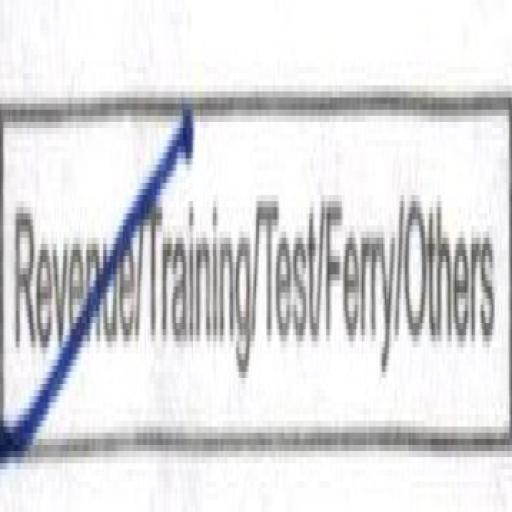check: (1, 74, 141, 512)
